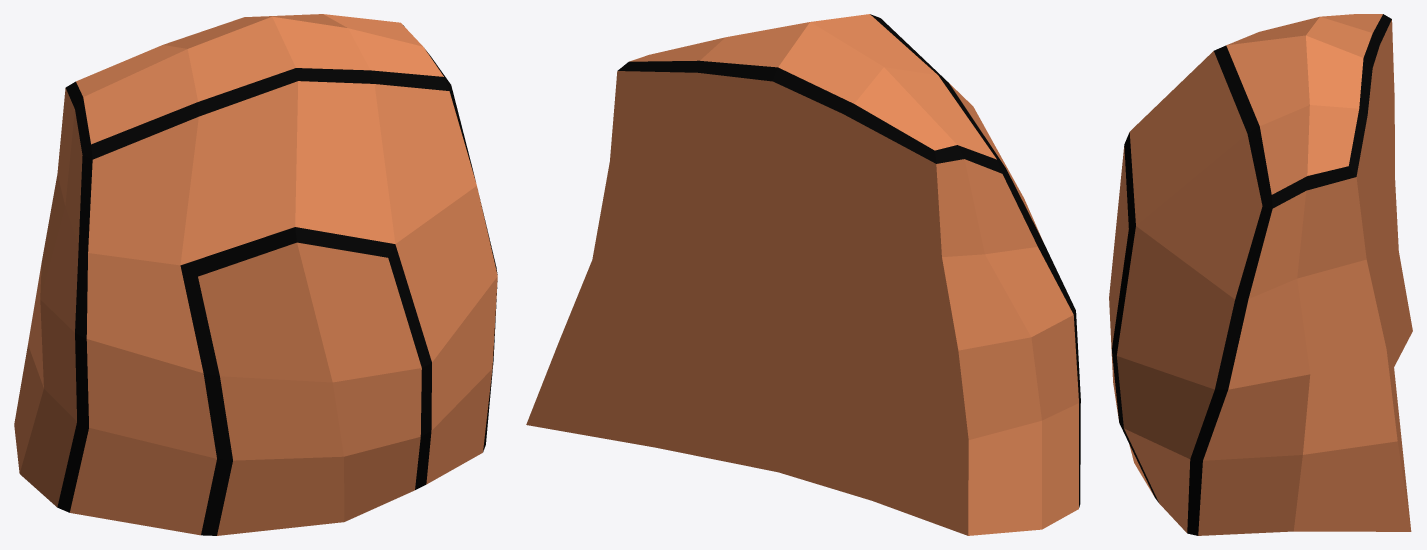
File: RockWall01.fbx
3 renders of one model, left to right at view 1: azimuth 30°, elevation 25°; view 2: azimuth 150°, elevation 25°; view 3: azimuth 270°, elevation 25°, orthographic. The views are drawn at different scales.
Visible parts, largest first — view 1: Cube.020; view 2: Cube.020; view 3: Cube.020.
Boxes of the visible parts, <box> form: Cube.020: <box>14,14,497,535</box>; Cube.020: <box>526,14,1080,535</box>; Cube.020: <box>1109,14,1412,535</box>.
Size of the model in its own units: 1286 by 1191 by 755.
